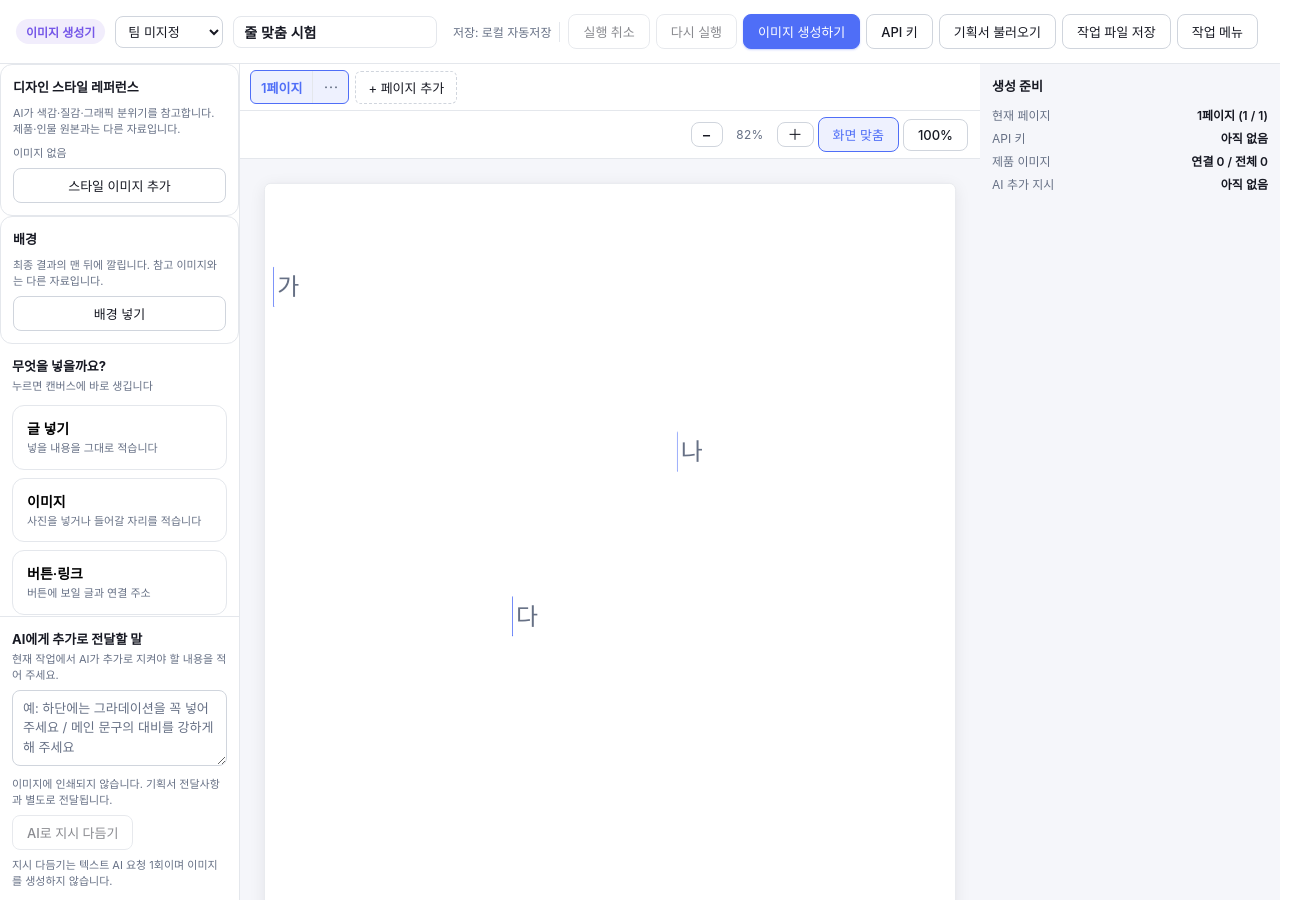
Test: §A3 화면에서 줄을 맞춘다 › 셋이 필요한 버튼은 둘일 때 흐리다
Press the mouse on the button with class "block-card" showing "가" at (314, 287), box [273,266,356,307]
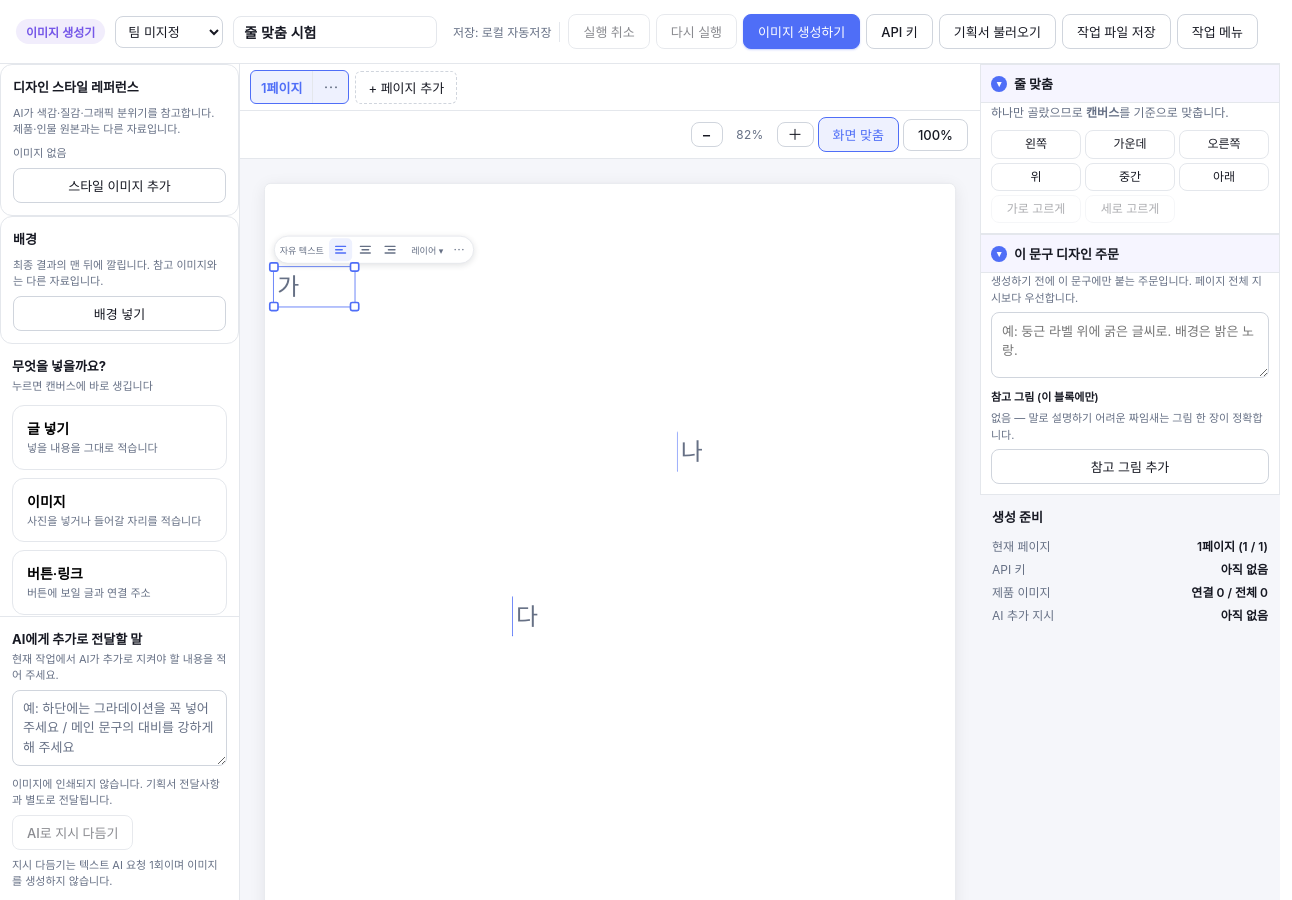
Check: the button with aria-label "가로 간격을 고르게" is disabled, box [991,195,1081,223]
